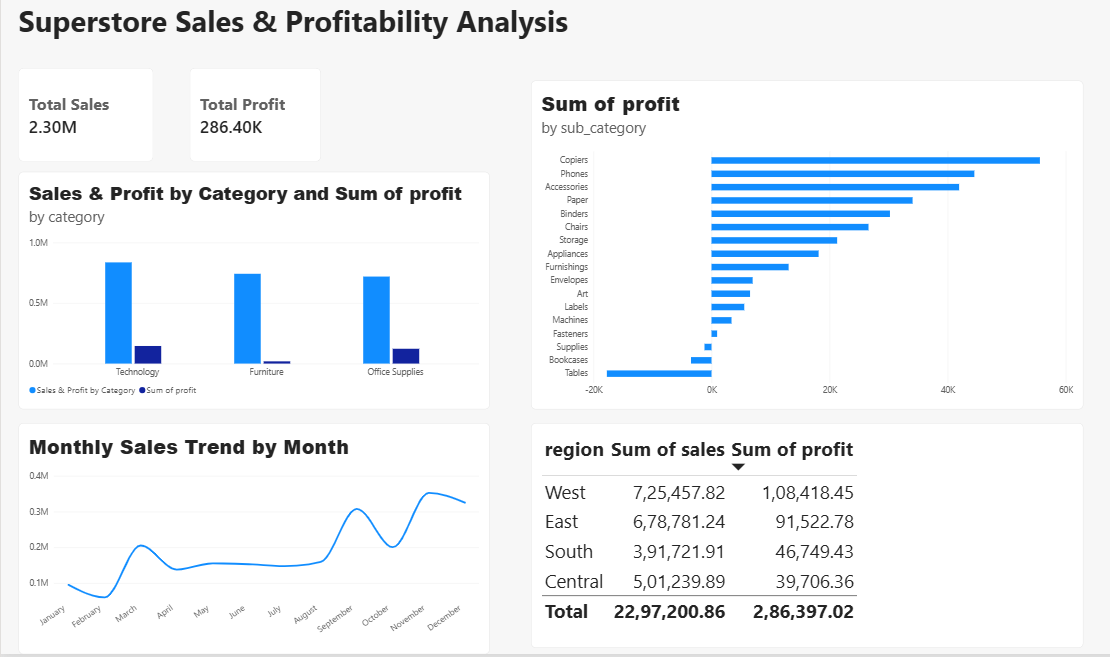

What the dashboard file says about the page in this screenshot:
{"tool":"powerbi","page":{"name":"Page 1","canvas":[1920,1080],"ordinal":0},"visuals":[{"type":"clusteredColumnChart","fields":{"Category":["public superstore.category"],"Y":["Sum(public superstore.sales)","Sum(public superstore.profit)"]},"box":[28.8,286.1,776,391.1],"z":0},{"type":"tableEx","fields":{"Values":["public superstore.region","Sum(public superstore.sales)","Sum(public superstore.profit)"]},"box":[872.7,699.8,909.8,370.5],"z":1},{"type":"lineChart","fields":{"Category":["public superstore.order_date.Variation.Date Hierarchy.Month"],"Y":["Sum(public superstore.sales)"]},"box":[28.8,699.8,776,380.8],"z":2},{"type":"cardVisual","fields":{"Data":["Sum(public superstore.sales)"]},"box":[28.8,115.3,222.3,154.4],"z":3},{"type":"cardVisual","fields":{"Data":["Sum(public superstore.profit)"]},"box":[310.8,115.3,216.1,154.4],"z":4},{"type":"textbox","box":[28.8,4.1,1037.4,156.4],"z":6},{"type":"clusteredBarChart","fields":{"Category":["public superstore.sub_category"],"Y":["Sum(public superstore.profit)"]},"box":[872.7,135.8,909.8,541.3],"z":7}]}

Visuals, with their boxes on the page's 1920x1080 design canvas (x1, y1, x2, y2). These are canvas units, not pixel positions in the 1110x657 screenshot, which may show the page scaled, cropped or inside an application window:
clusteredColumnChart - public superstore.category x Sum(public superstore.sales): 29/286/805/677
tableEx - public superstore.region x Sum(public superstore.sales): 873/700/1782/1070
lineChart - public superstore.order_date.Variation.Date Hierarchy.Month x Sum(public superstore.sales): 29/700/805/1081
cardVisual - Sum(public superstore.sales): 29/115/251/270
cardVisual - Sum(public superstore.profit): 311/115/527/270
textbox: 29/4/1066/160
clusteredBarChart - public superstore.sub_category x Sum(public superstore.profit): 873/136/1782/677
